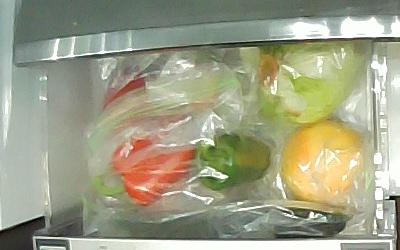eggplant_vinyl: (108, 199, 346, 238)
grapefruit_vinyl: (280, 121, 364, 206)
lettuce_vinyl: (255, 42, 368, 124)
paprika_vinyl: (95, 136, 198, 207), (198, 132, 273, 192)
